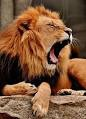lion: (4, 6, 74, 118)
